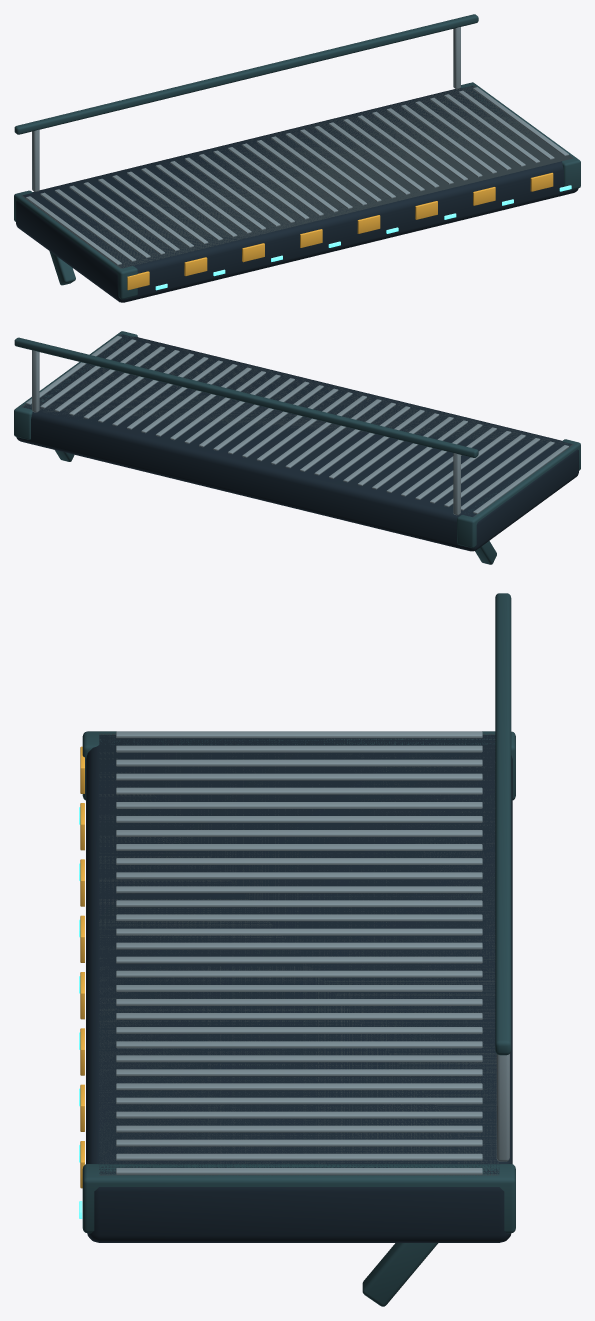
File: catwalk_8m.glb
3 views of the same model, one above another, from view 1: azimuth 30°, elevation 25°; view 2: azimuth 150°, elevation 25°; view 3: azimuth 270°, elevation 25° (orthographic). The views are drawn at different scales.
Parts seen in each view (by area): view 1: Reinforced deck, Raised grip surface, Hex fastener, Side casting, Front warning stripe, Front lamp; view 2: Reinforced deck, Hex fastener, Side casting, Raised grip surface; view 3: Reinforced deck, Hex fastener, Side casting, Raised grip surface, Front warning stripe.
Part boxes in pixels (x1,y1,x2,y2): Reinforced deck: (16,85,578,302); Raised grip surface: (21,85,573,268); Hex fastener: (26,27,568,265); Side casting: (14,14,580,299); Front warning stripe: (127,172,553,290); Front lamp: (155,185,571,290); Reinforced deck: (16,334,578,551); Hex fastener: (26,336,568,515); Side casting: (14,331,580,564); Raised grip surface: (21,334,573,517); Reinforced deck: (86,735,512,1242); Hex fastener: (116,731,509,1174); Side casting: (82,593,515,1306); Raised grip surface: (99,733,499,1175); Front warning stripe: (80,746,84,1188).
Bounding box in the file's own units: 8 × 2.32 × 3.28.
